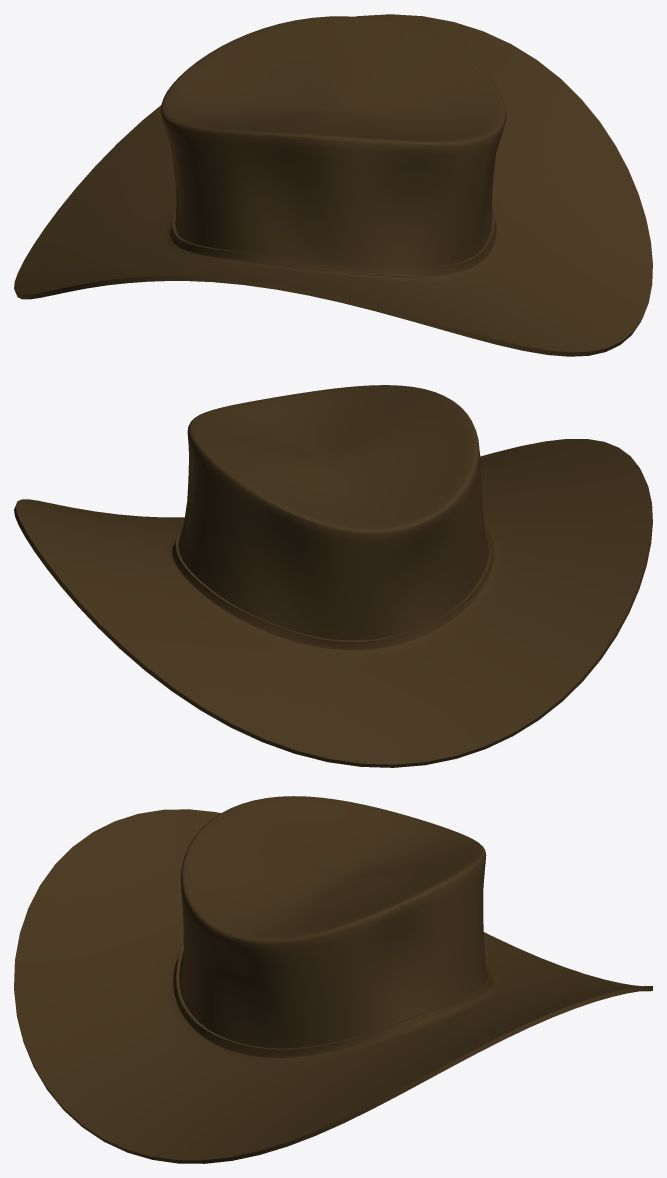
The model's file is cowboy_hat.fbx.
The picture shows the model from 3 angles, top to bottom: view 1: azimuth 30°, elevation 25°; view 2: azimuth 150°, elevation 25°; view 3: azimuth 270°, elevation 25°; orthographic projection. The views are drawn at different scales.
Parts seen in each view (by area): view 1: Circle, Circle.002; view 2: Circle, Circle.002; view 3: Circle, Circle.002.
Part boxes in pixels (x1,y1,x2,y2): Circle: (14, 14, 652, 356); Circle.002: (170, 201, 496, 277); Circle: (14, 385, 652, 767); Circle.002: (172, 524, 494, 650); Circle: (14, 796, 652, 1163); Circle.002: (173, 944, 493, 1057).
Size of what is drawn, in the model's own units: 309 by 112 by 309.
